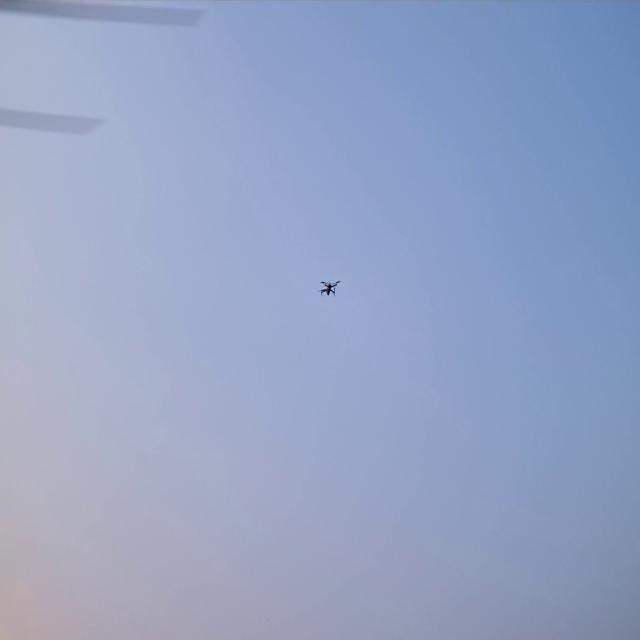UAV: (317, 278, 342, 298)
